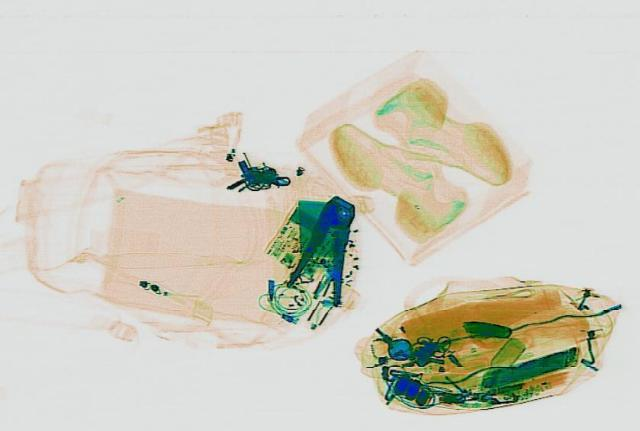Pliers: (278, 192, 376, 307)
